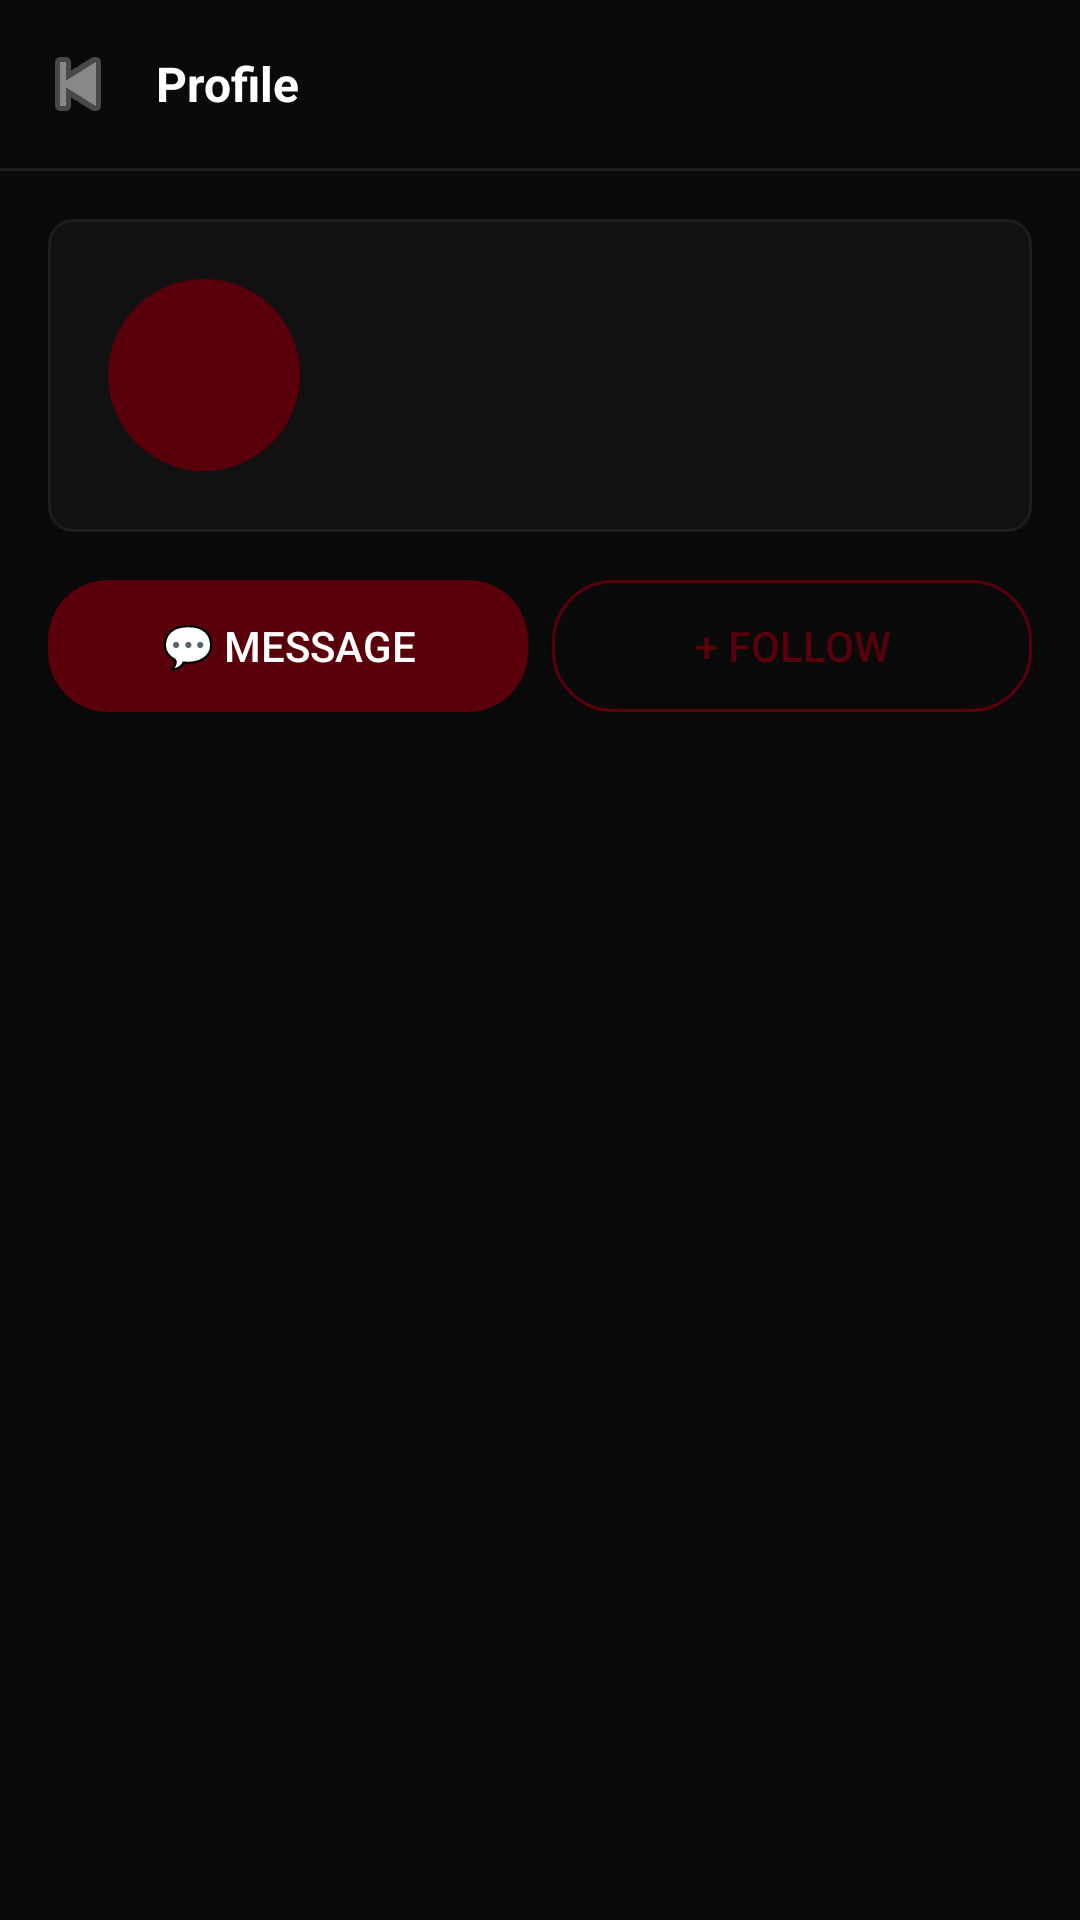

Locate icon controls on the screen. Image size 1080x1920, boxes as detection(x1, y1, x2, y2).
previous: detection(55, 57, 101, 111)
